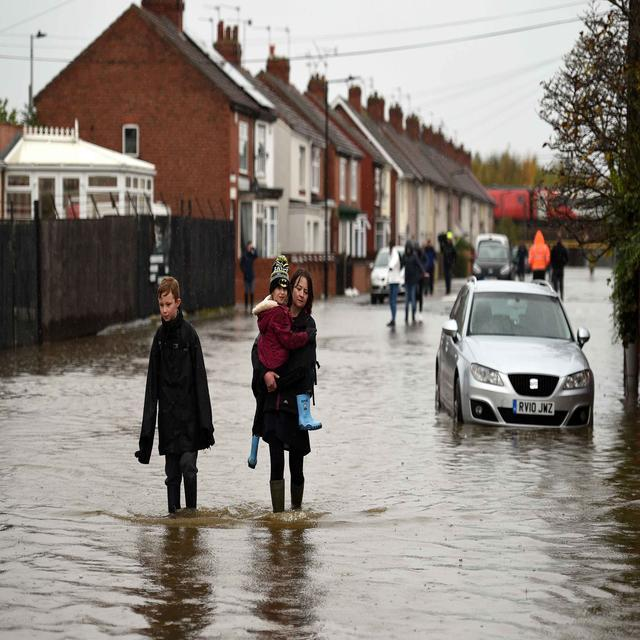Car-RiskLevel2: (423, 268, 609, 443)
Person-RiskLevel2: (131, 268, 217, 526), (251, 256, 328, 518)
